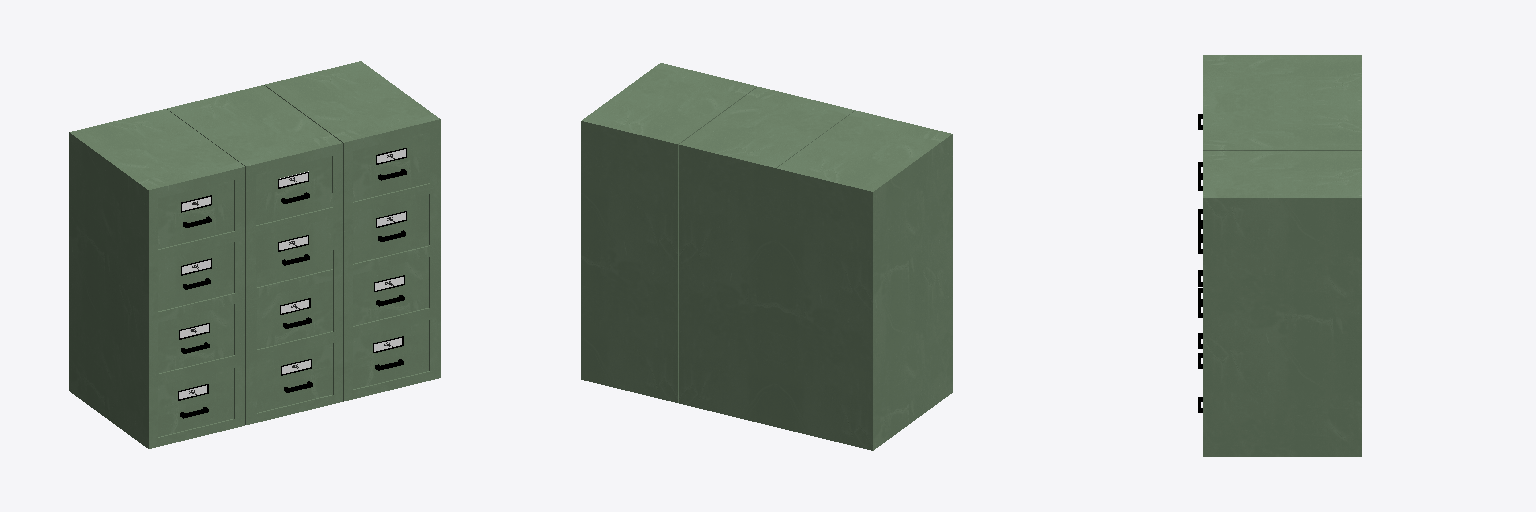
3 renders of one model, left to right at view 1: azimuth 30°, elevation 25°; view 2: azimuth 150°, elevation 25°; view 3: azimuth 270°, elevation 25°, orthographic.
Visible parts, largest first — view 1: cub2, cub3, documentsRender:cub2; view 2: cub2, cub3, documentsRender:cub2; view 3: cub3, documentsRender:cub2, cub2.
Part boxes in pixels (x1,y1,x2,y2): cub2: (69, 109, 244, 448); cub3: (264, 61, 440, 401); documentsRender:cub2: (167, 85, 342, 424); cub2: (776, 110, 952, 450); cub3: (581, 63, 756, 402); documentsRender:cub2: (679, 87, 854, 426); cub3: (1198, 151, 1361, 456); documentsRender:cub2: (1198, 103, 1361, 368); cub2: (1198, 55, 1361, 317).
Size of the model in its own units: 3.58 by 3.04 by 1.73.
3 materials, 2 textured.